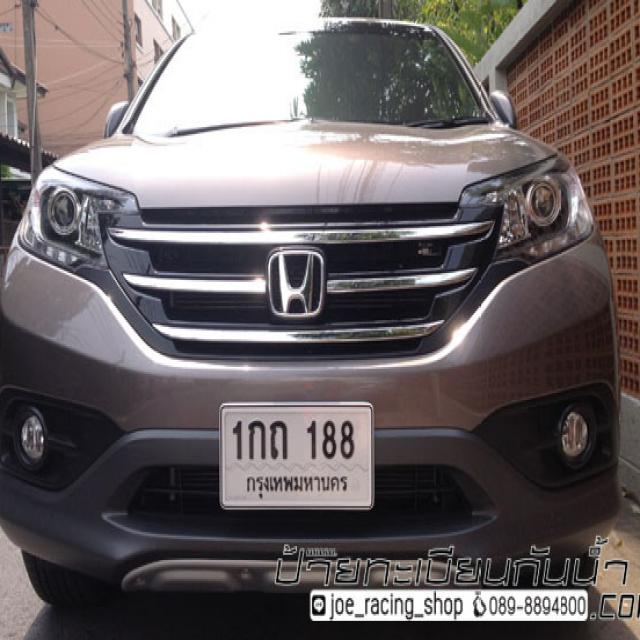license_plate: (219, 402, 376, 512)
